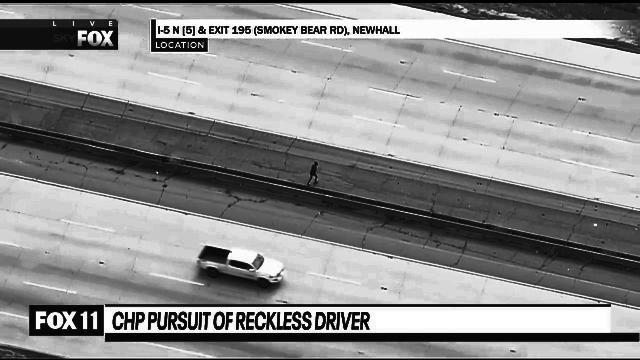berlari: (303, 158, 321, 190)
